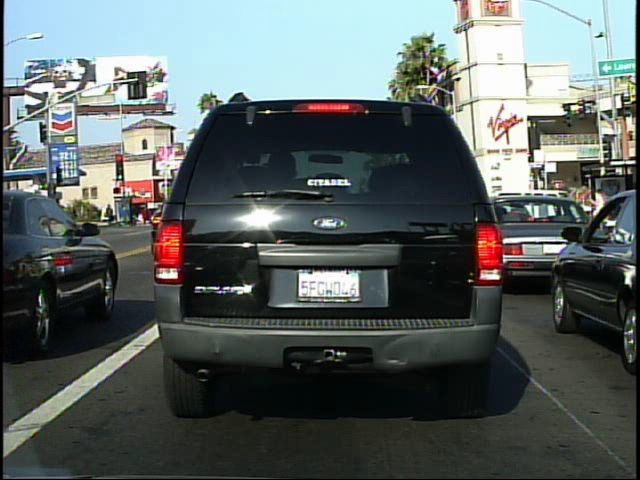person: (588, 184, 609, 243), (102, 199, 118, 233)
